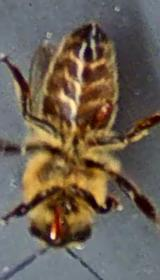varroa_mite: (86, 96, 124, 134)
